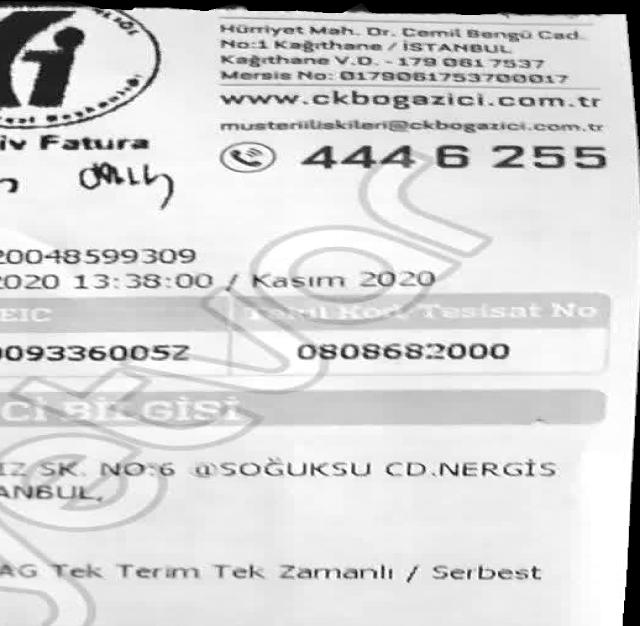electricity-bill: (0, 1, 640, 626)
